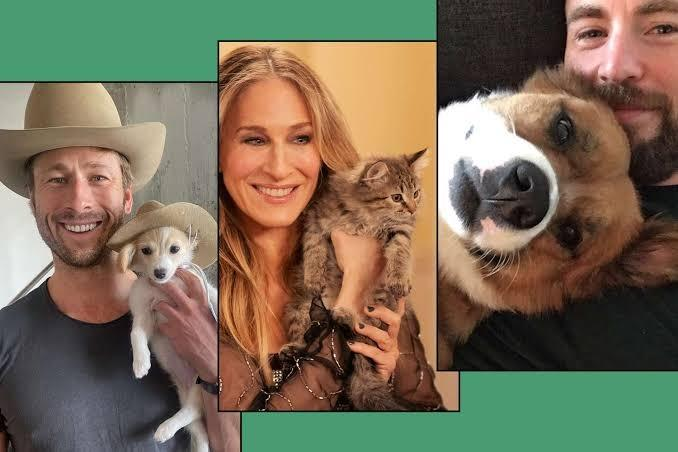adult_dog: (436, 61, 678, 342)
non-dog: (270, 148, 427, 411)
puppy-dog: (111, 226, 211, 452)
